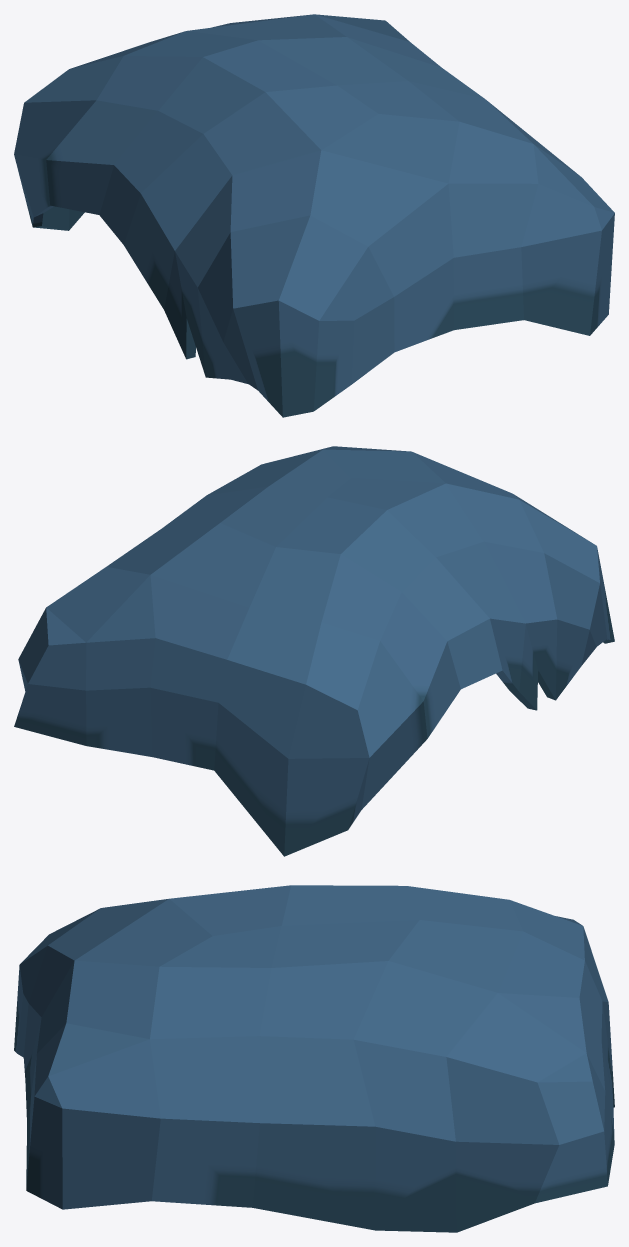
File: SM_Prop_Cart_Metal_Tarp_01.fbx
3 renders of one model, top to bottom at view 1: azimuth 30°, elevation 25°; view 2: azimuth 150°, elevation 25°; view 3: azimuth 270°, elevation 25°, orthographic. The views are drawn at different scales.
Parts seen in each view (by area): view 1: SM_Prop_Cart_Metal_Tarp_01; view 2: SM_Prop_Cart_Metal_Tarp_01; view 3: SM_Prop_Cart_Metal_Tarp_01.
Part boxes in pixels (x1,y1,x2,y2): SM_Prop_Cart_Metal_Tarp_01: (14,14,614,417); SM_Prop_Cart_Metal_Tarp_01: (14,446,614,856); SM_Prop_Cart_Metal_Tarp_01: (14,885,614,1232).
Bounding box in the file's own units: 135 × 78.44 × 173.
